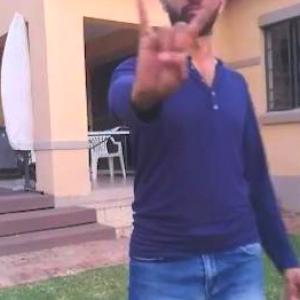takeoff-hand: (133, 0, 221, 103)
